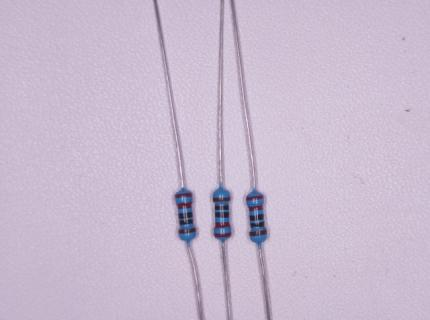Black band: (250, 213, 264, 221), (251, 220, 264, 227), (215, 212, 229, 218), (179, 213, 193, 219), (180, 219, 193, 225), (215, 205, 229, 210)
Brown band: (179, 228, 196, 234), (250, 230, 267, 236), (214, 197, 230, 201)
Red band: (175, 192, 192, 198), (178, 202, 192, 209), (215, 222, 230, 228), (246, 195, 263, 200), (249, 205, 263, 211), (215, 232, 231, 237)
